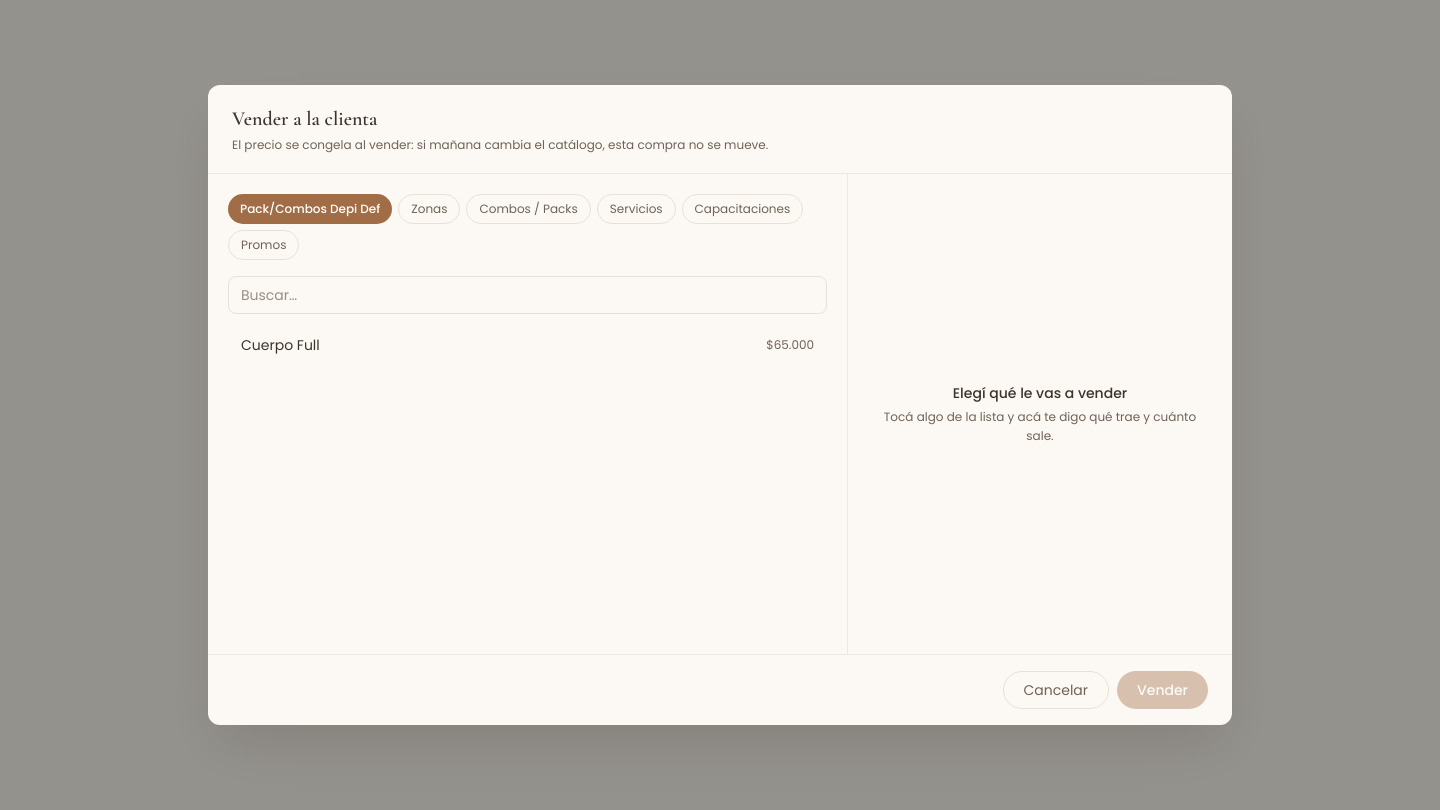
VenderModal — saldo a favor › con saldo, lo ofrece y dice cuánto es
Click the button "Cuerpo Full $65.000". click: (280, 345)
box: [228,326,827,364]
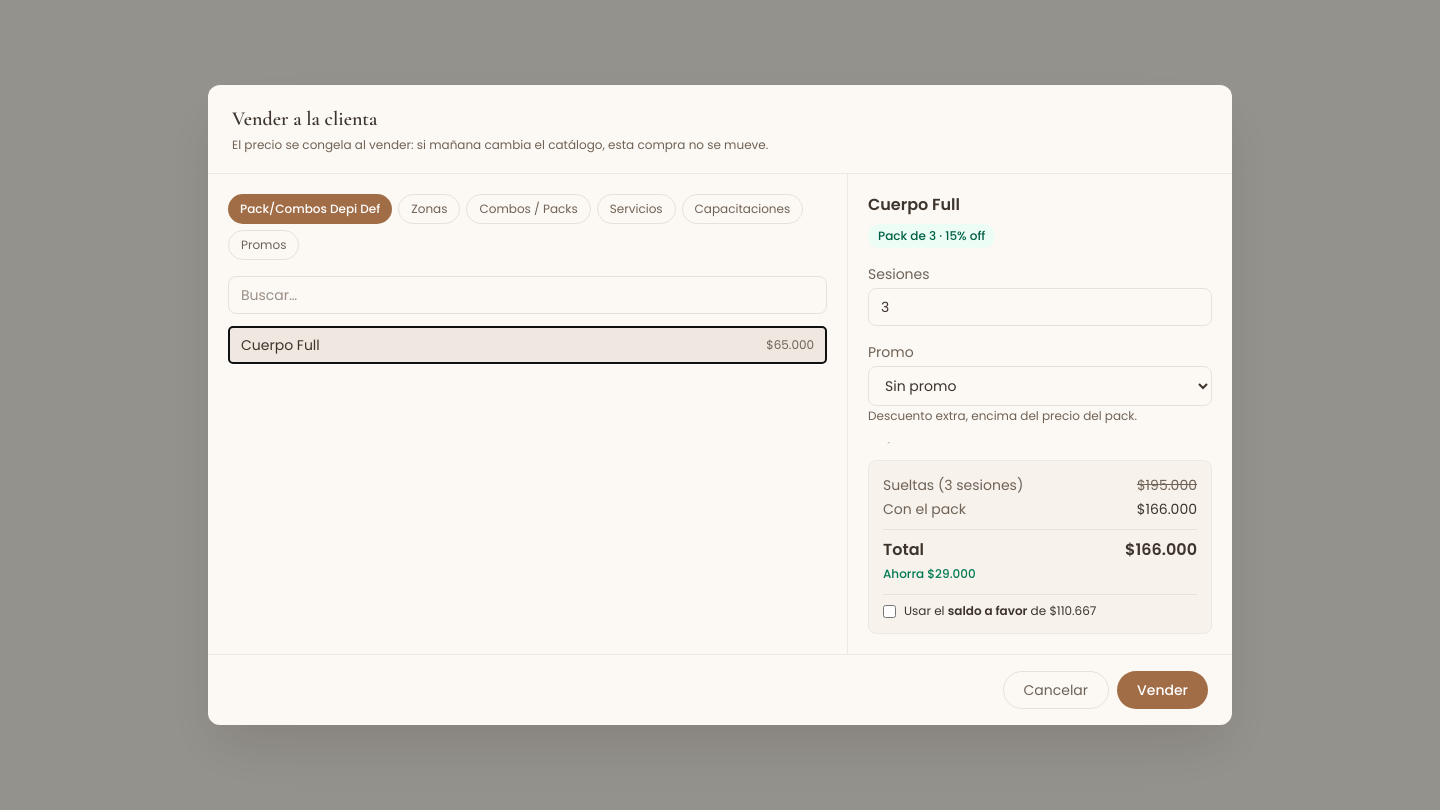
Expected: the checkbox labelled "Usar el saldo a favor de $110.667" is shown, [883,605,896,618]
Expected: the text "Usar el saldo a favor de $110.667" is shown, [904,603,1096,619]
